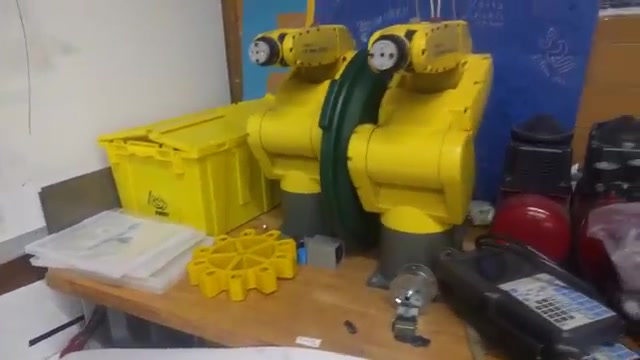gear: (184, 222, 297, 304)
